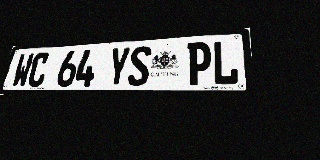4: (73, 49, 98, 87)
6: (55, 50, 80, 87)
C: (26, 52, 50, 87)
L: (212, 40, 239, 85)
P: (186, 42, 211, 85)
S: (127, 45, 152, 86)
W: (10, 53, 35, 87)
Y: (106, 47, 131, 86)
